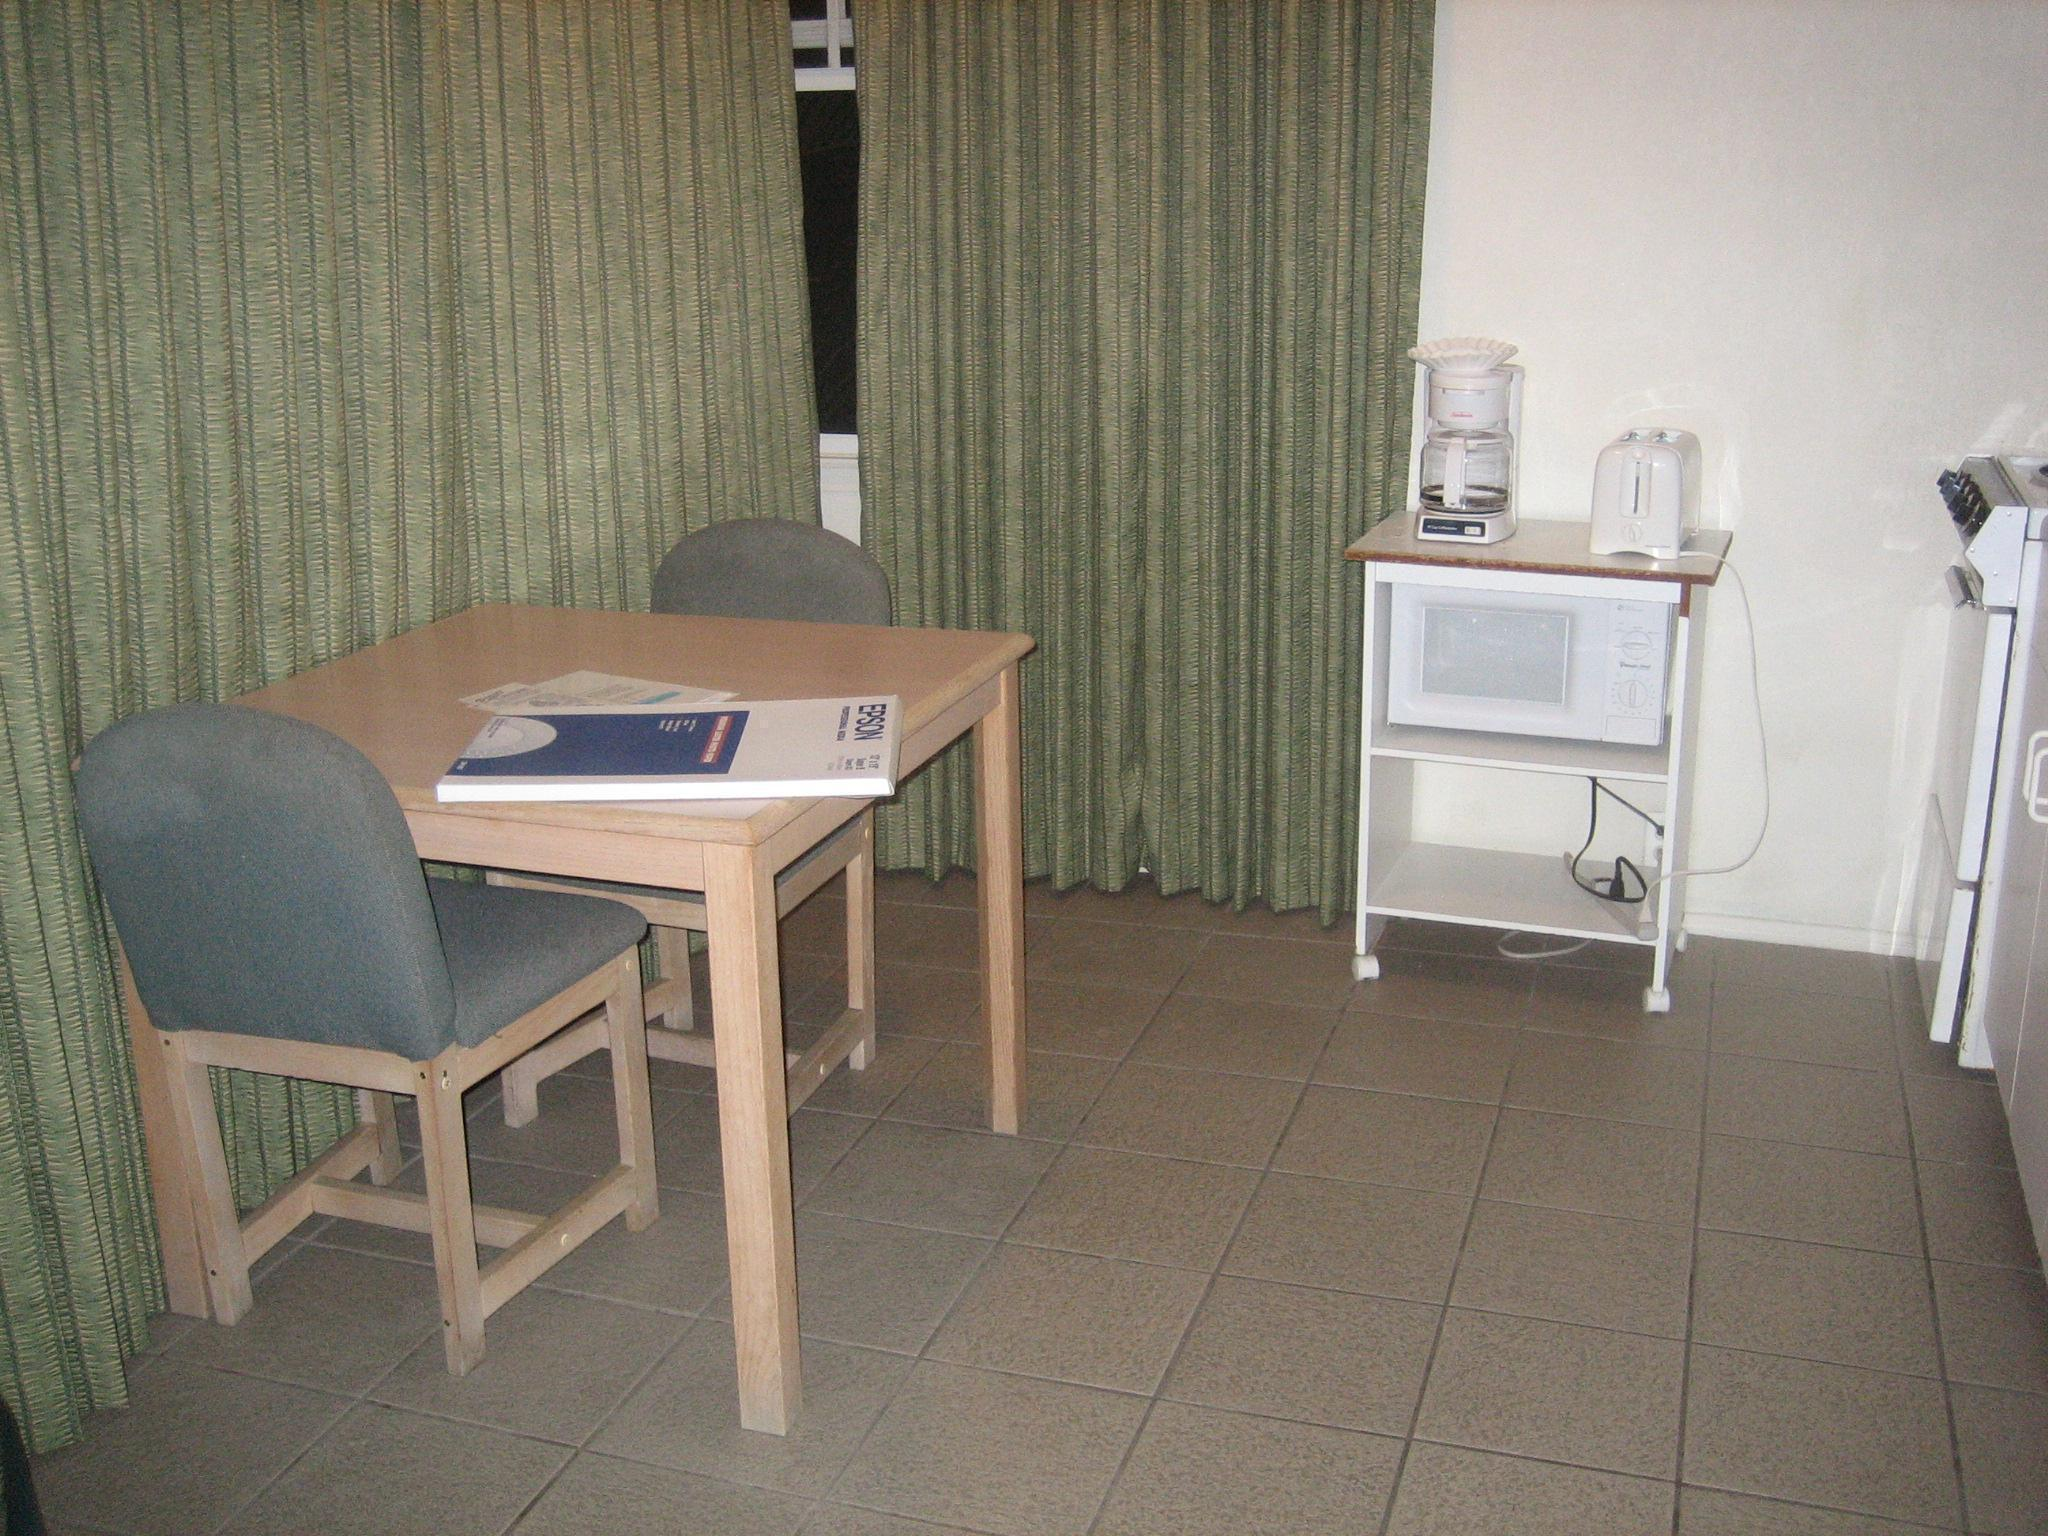Electrodomestico: (1904, 439, 2019, 1081)
Ventana: (661, 11, 1367, 499)
